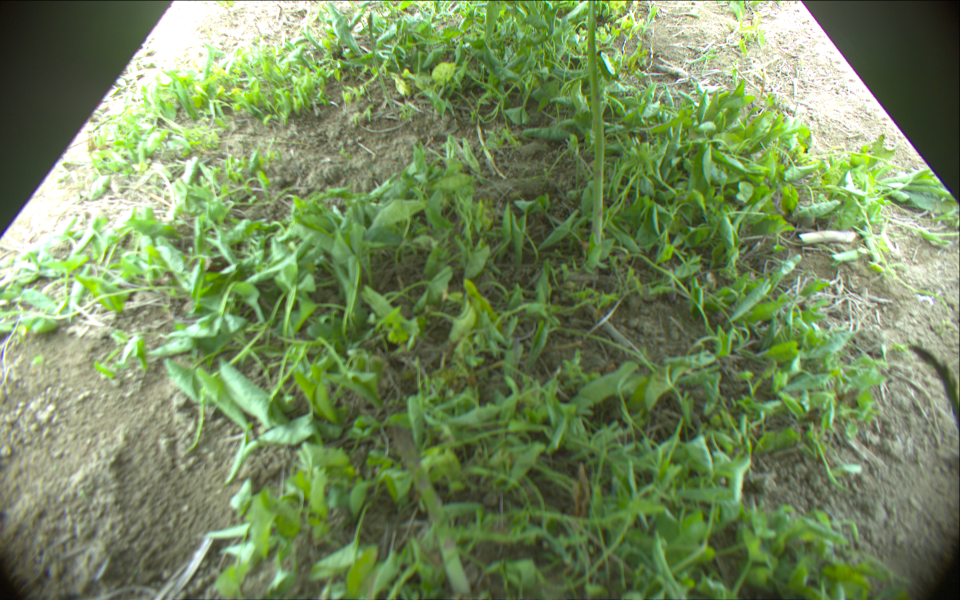aspa: (392, 424, 477, 600), (583, 1, 604, 261), (907, 346, 960, 438)
